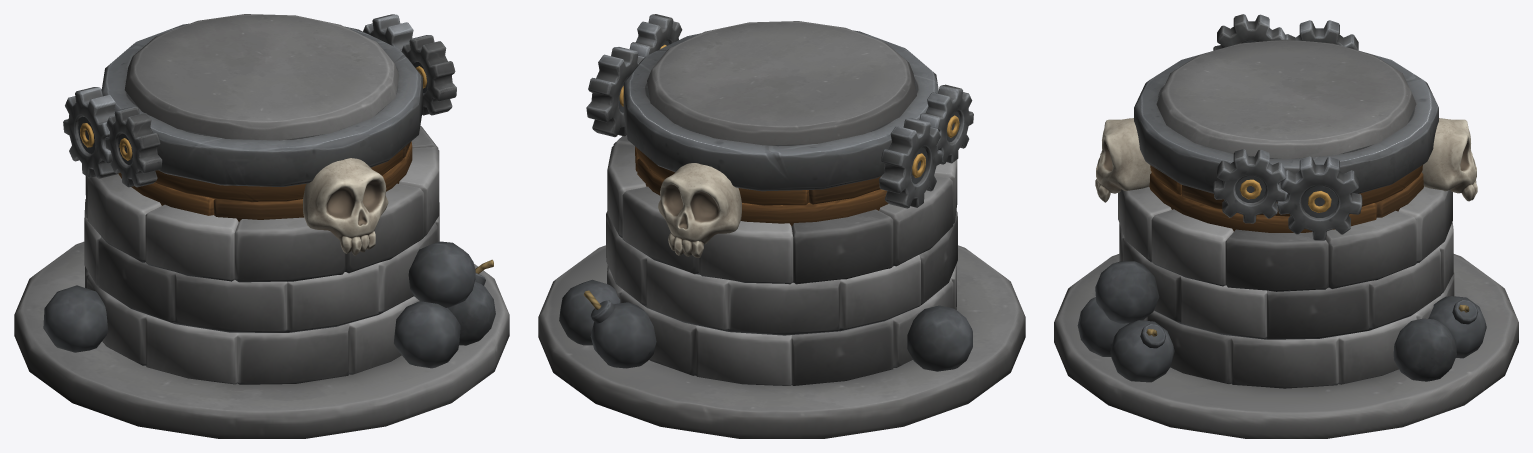
The model's file is SM_TowerDefense_Cannon_Lv1.fbx.
3 renders of one model, left to right at view 1: azimuth 30°, elevation 25°; view 2: azimuth 150°, elevation 25°; view 3: azimuth 270°, elevation 25°, orthographic. The views are drawn at different scales.
Visible parts, largest first — view 1: SM_TowerDefense_Cannon_Lv1, SM_TowerDefense_Cannon_Lv1_Weapon_Top_Base, SM_TowerDefense_Cannon_Lv1_Gear_A, SM_TowerDefense_Cannon_Lv1_Gear_B; view 2: SM_TowerDefense_Cannon_Lv1, SM_TowerDefense_Cannon_Lv1_Weapon_Top_Base, SM_TowerDefense_Cannon_Lv1_Gear_B, SM_TowerDefense_Cannon_Lv1_Gear_A; view 3: SM_TowerDefense_Cannon_Lv1, SM_TowerDefense_Cannon_Lv1_Weapon_Top_Base, SM_TowerDefense_Cannon_Lv1_Gear_B, SM_TowerDefense_Cannon_Lv1_Gear_A.
Boxes of the visible parts, x1=… form: SM_TowerDefense_Cannon_Lv1: x1=14, y1=23, x2=509, y2=438; SM_TowerDefense_Cannon_Lv1_Weapon_Top_Base: x1=124, y1=14, x2=399, y2=140; SM_TowerDefense_Cannon_Lv1_Gear_A: x1=105, y1=35, x2=456, y2=187; SM_TowerDefense_Cannon_Lv1_Gear_B: x1=63, y1=14, x2=413, y2=178; SM_TowerDefense_Cannon_Lv1: x1=538, y1=30, x2=1025, y2=438; SM_TowerDefense_Cannon_Lv1_Weapon_Top_Base: x1=647, y1=21, x2=916, y2=145; SM_TowerDefense_Cannon_Lv1_Gear_B: x1=586, y1=47, x2=942, y2=208; SM_TowerDefense_Cannon_Lv1_Gear_A: x1=629, y1=14, x2=973, y2=164; SM_TowerDefense_Cannon_Lv1: x1=1054, y1=47, x2=1518, y2=438; SM_TowerDefense_Cannon_Lv1_Weapon_Top_Base: x1=1156, y1=39, x2=1416, y2=159; SM_TowerDefense_Cannon_Lv1_Gear_B: x1=1277, y1=20, x2=1362, y2=240; SM_TowerDefense_Cannon_Lv1_Gear_A: x1=1213, y1=14, x2=1287, y2=223.
Bounding box in the file's own units: 838 × 519 × 851.
